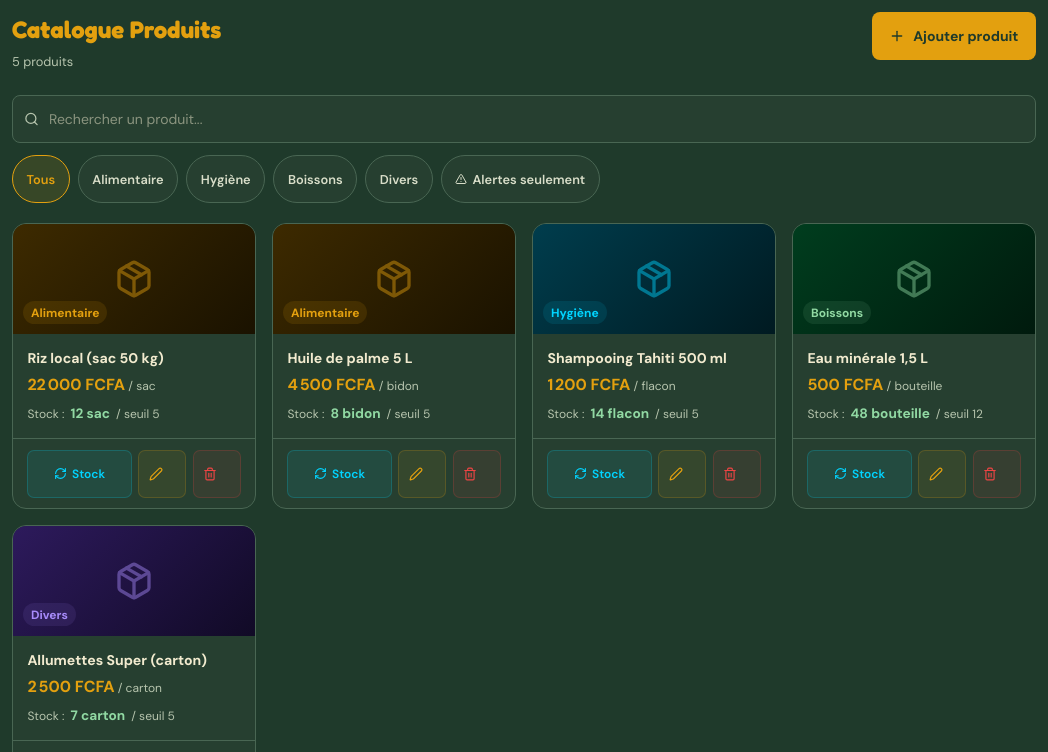
Test: ProduitsPage › 13 — filtre "Boissons" : affiche Eau minérale, masque Riz
Step 1. Click the button "Boissons" → (315, 179), box [273, 155, 357, 203]
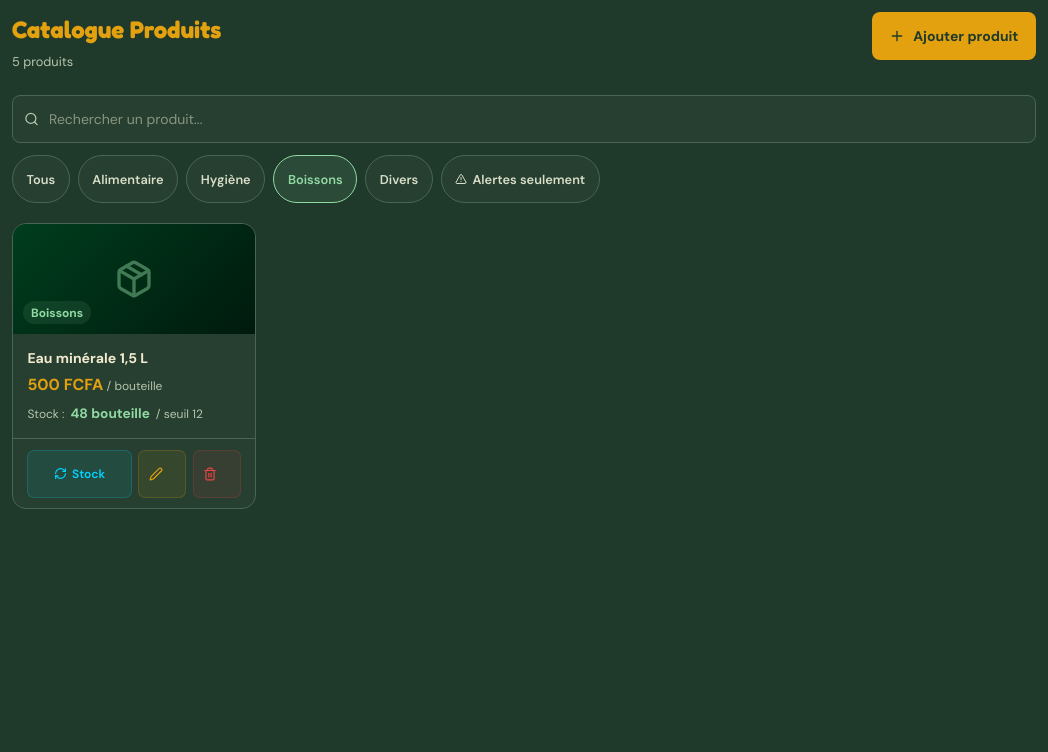
Check: the text "Eau minérale 1,5 L" is shown, box [27, 349, 148, 367]
Check: the text "Riz local (sac 50 kg)" is gone
